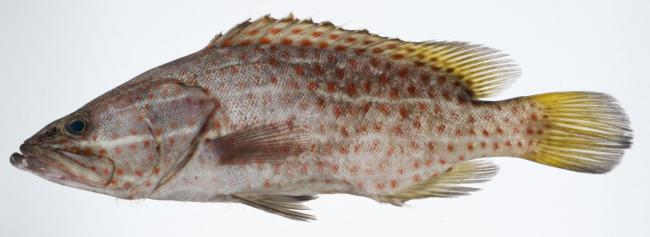fish: (8, 16, 633, 220)
